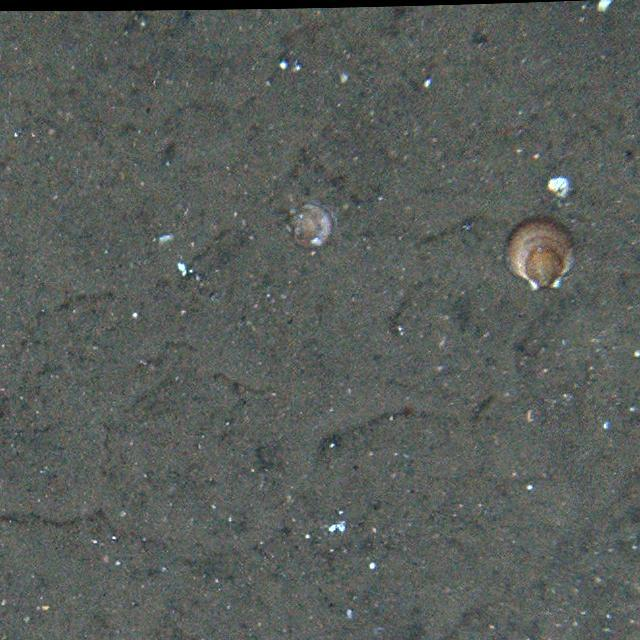scallop: (499, 216, 579, 292)
